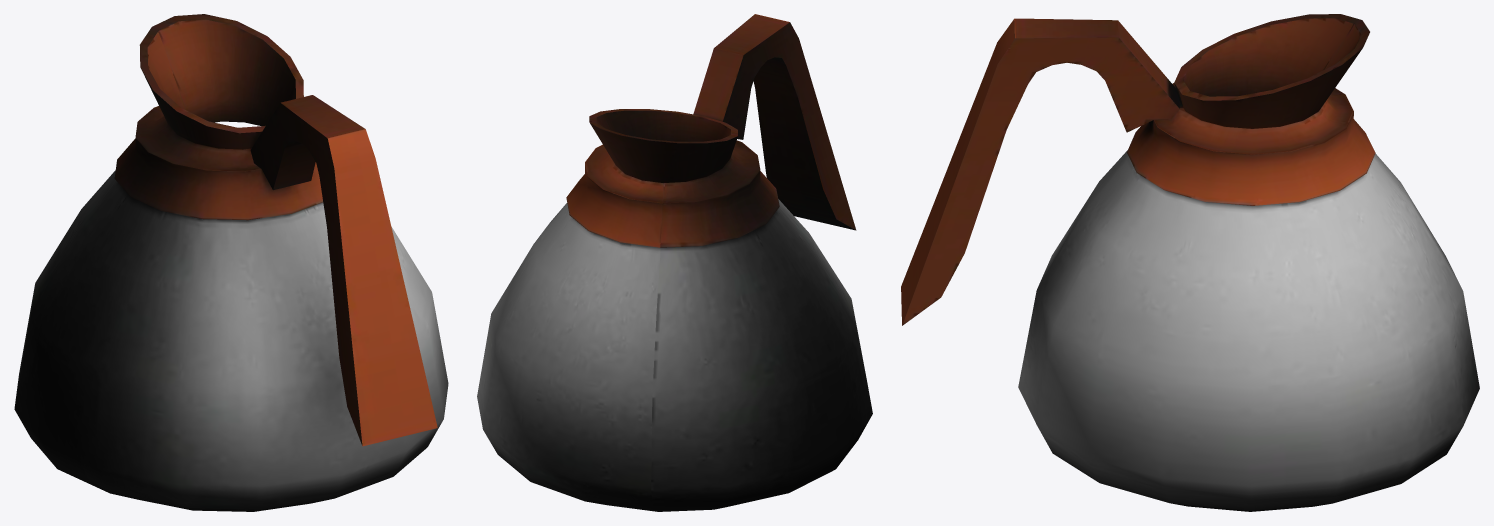
3 renders of one model, left to right at view 1: azimuth 30°, elevation 25°; view 2: azimuth 150°, elevation 25°; view 3: azimuth 270°, elevation 25°, orthographic. The views are drawn at different scales.
Parts seen in each view (by area): view 1: body0_model0_lod0_mesh0; view 2: body0_model0_lod0_mesh0; view 3: body0_model0_lod0_mesh0.
Boxes of the visible parts, bbox=[...] form: body0_model0_lod0_mesh0: bbox=[14, 14, 448, 511]; body0_model0_lod0_mesh0: bbox=[477, 14, 872, 511]; body0_model0_lod0_mesh0: bbox=[901, 14, 1479, 511].
Size of the model in its own units: 11.25 by 11.34 by 14.1.
Materials: 1 (1 with a texture image).
